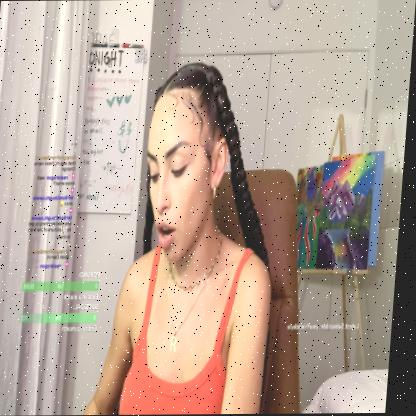streamer: (84, 59, 289, 415)
